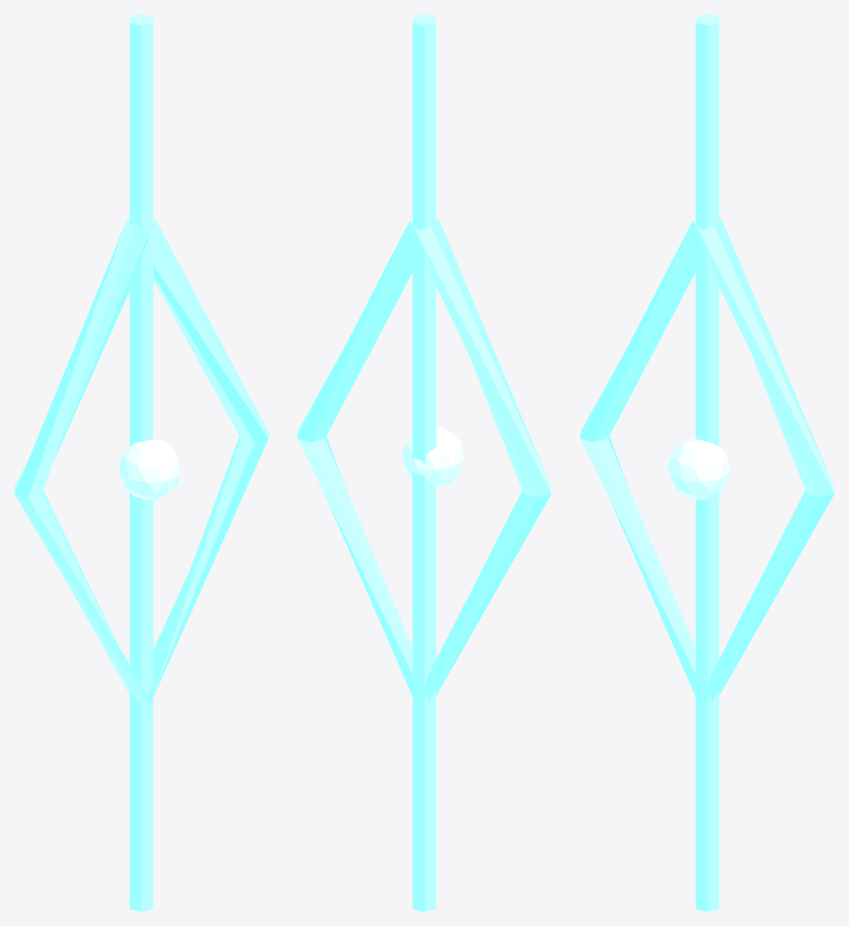
Rendered from forest_rune_diamond.glb.
3 views of the same model, side by side, from view 1: azimuth 30°, elevation 25°; view 2: azimuth 150°, elevation 25°; view 3: azimuth 330°, elevation 25° (orthographic).
Parts seen in each view (by area): view 1: Glowing diamond rune.001, Rune vertical stroke.001, Rune center luminous seed; view 2: Glowing diamond rune.001, Rune vertical stroke.001, Rune center luminous seed; view 3: Glowing diamond rune.001, Rune vertical stroke.001, Rune center luminous seed.
Boxes of the visible parts, x1=… form: Glowing diamond rune.001: x1=14, y1=219, x2=268, y2=710; Rune vertical stroke.001: x1=129, y1=14, x2=153, y2=911; Rune center luminous seed: x1=119, y1=439, x2=180, y2=500; Glowing diamond rune.001: x1=297, y1=219, x2=551, y2=710; Rune vertical stroke.001: x1=412, y1=14, x2=436, y2=911; Rune center luminous seed: x1=402, y1=425, x2=463, y2=486; Glowing diamond rune.001: x1=580, y1=219, x2=834, y2=710; Rune vertical stroke.001: x1=695, y1=14, x2=719, y2=911; Rune center luminous seed: x1=668, y1=438, x2=729, y2=500.
Size of the model in its own units: 0.258 by 0.86 by 0.057.
